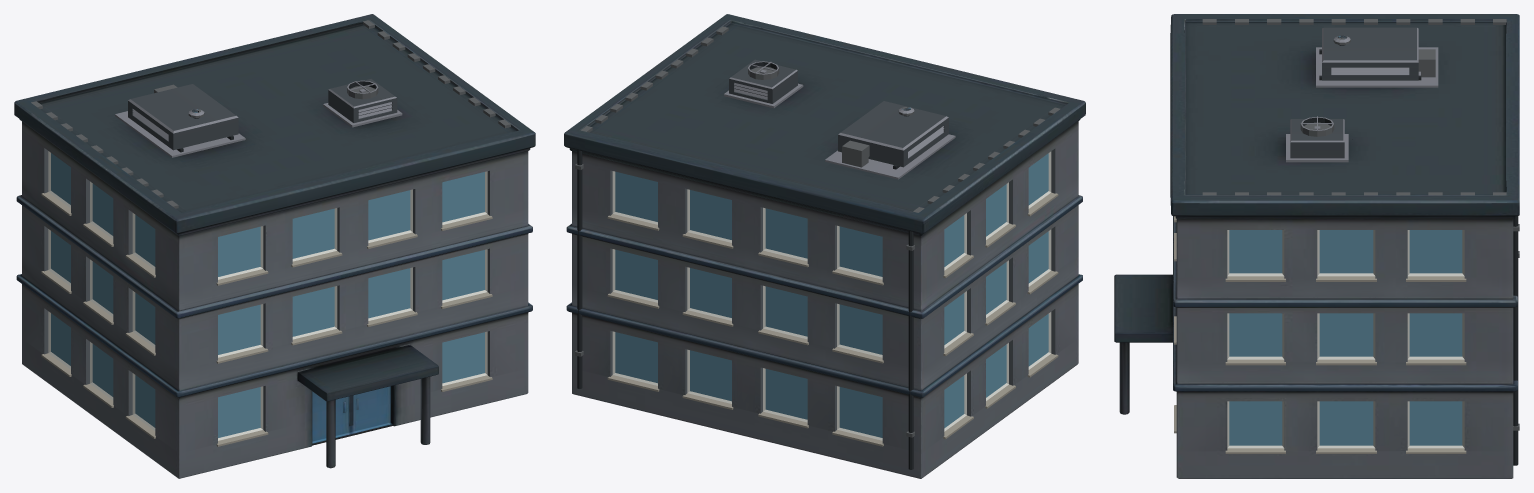
Rendered from office-apartment-three.glb.
3 renders of one model, left to right at view 1: azimuth 30°, elevation 25°; view 2: azimuth 150°, elevation 25°; view 3: azimuth 270°, elevation 25°, orthographic. The views are drawn at different scales.
Parts seen in each view (by area): view 1: Office-apartment-threeBody; view 2: Office-apartment-threeBody; view 3: Office-apartment-threeBody.
Part boxes in pixels (x1,y1,x2,y2): Office-apartment-threeBody: (14, 14, 535, 478); Office-apartment-threeBody: (564, 14, 1085, 478); Office-apartment-threeBody: (1114, 14, 1519, 478).
Size of the model in its own units: 16.5 by 12.6 by 15.
1 material, 1 textured.
